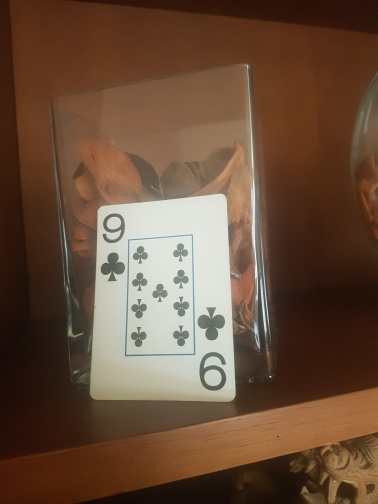nine: (90, 194, 234, 403)
